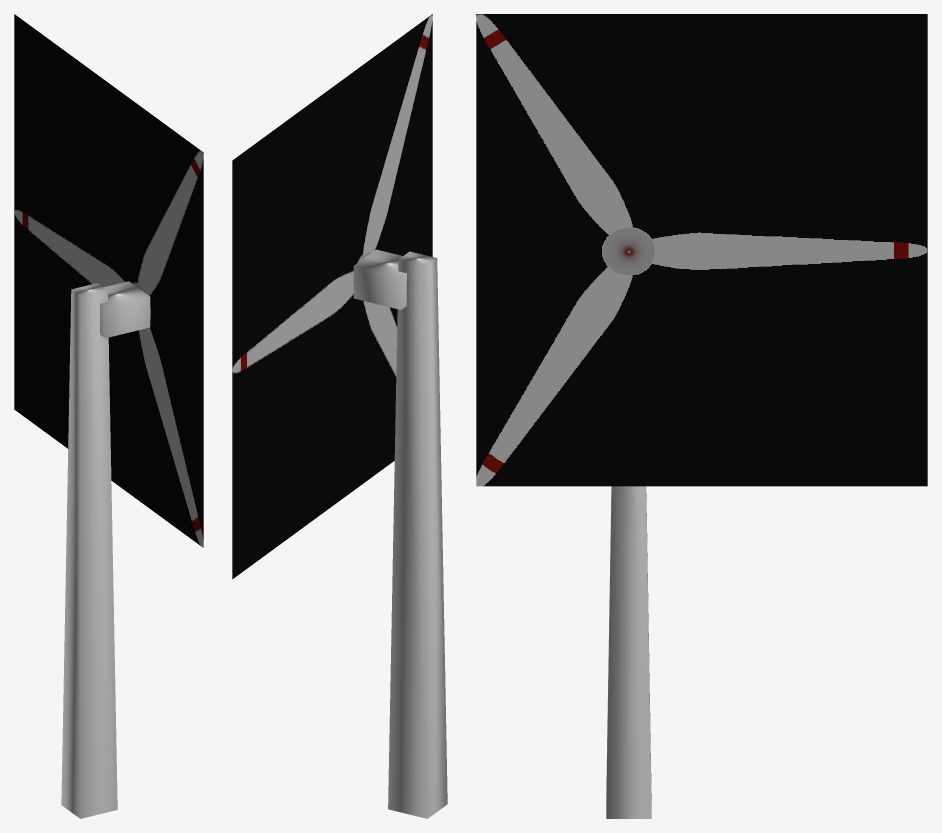
The model's file is mdl_Duc_WindTurbine 1.0.glb.
The picture shows the model from 3 angles, left to right: view 1: azimuth 30°, elevation 25°; view 2: azimuth 150°, elevation 25°; view 3: azimuth 270°, elevation 25°; orthographic projection. The views are drawn at different scales.
Parts seen in each view (by area): view 1: Windturbine Blades, Cube; view 2: Windturbine Blades, Cube; view 3: Windturbine Blades, Cube.
Boxes of the visible parts, bbox=[...] form: Windturbine Blades: bbox=[14, 14, 203, 547]; Cube: bbox=[61, 281, 150, 818]; Windturbine Blades: bbox=[232, 14, 432, 579]; Cube: bbox=[353, 249, 447, 818]; Windturbine Blades: bbox=[476, 14, 927, 486]; Cube: bbox=[606, 486, 651, 818].
Size of the model in its own units: 0.2099 by 2.01 by 1.
1 material, 1 textured.
